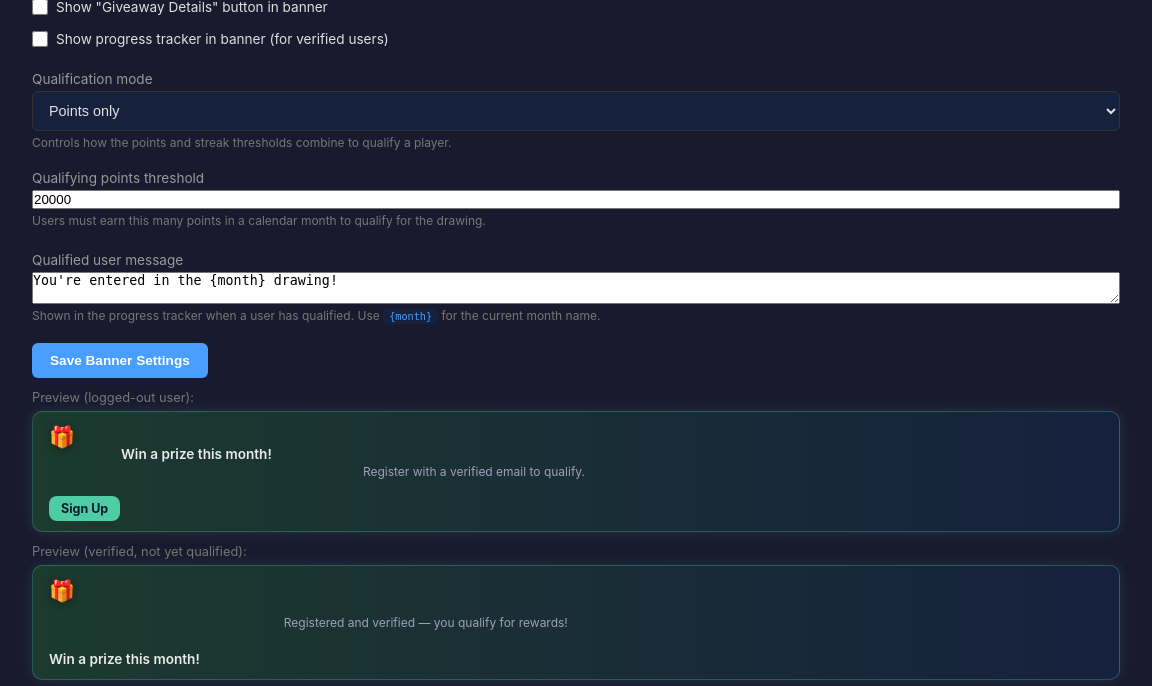
Test case: AdminBannerPage › shows success message after a successful save
(page scrolled)
Click the button with test id "banner-save".
click(120, 360)  # box [32,343,208,378]
(page scrolled)
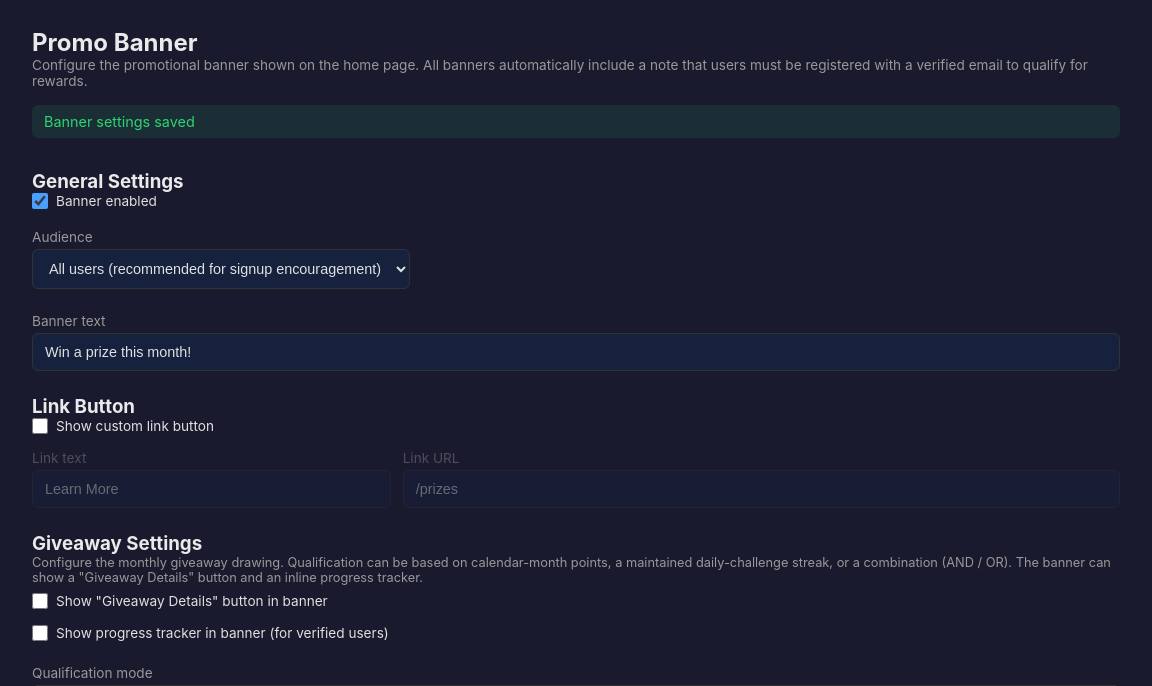
Expected: the text "Banner settings saved" is shown, [32,105,1120,138]
